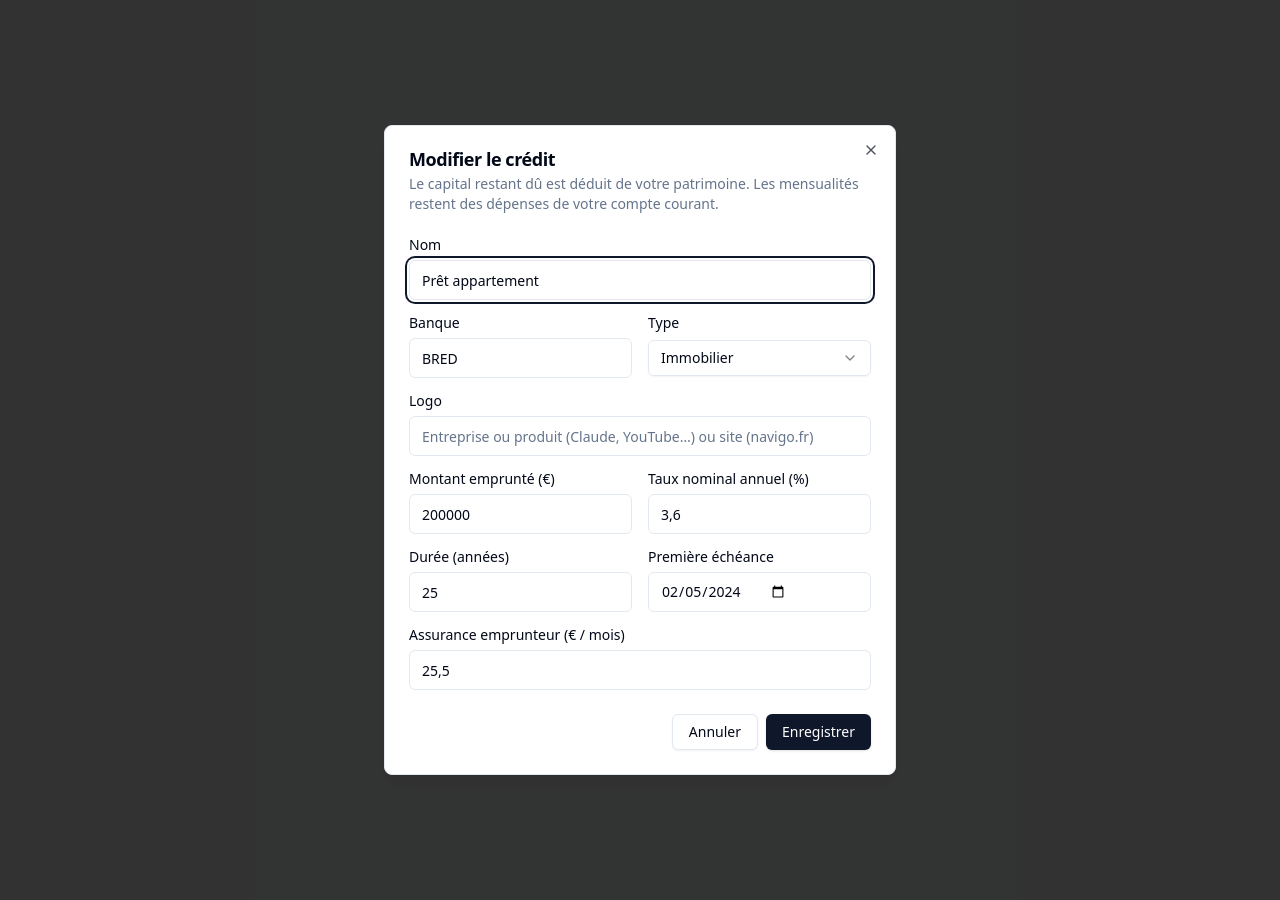
Test: LoanDialog › affiche le détail de l'erreur serveur sans fermer
The image size is (1280, 900).
Click the button "Enregistrer" at (818, 732), box [766,714,871,750]
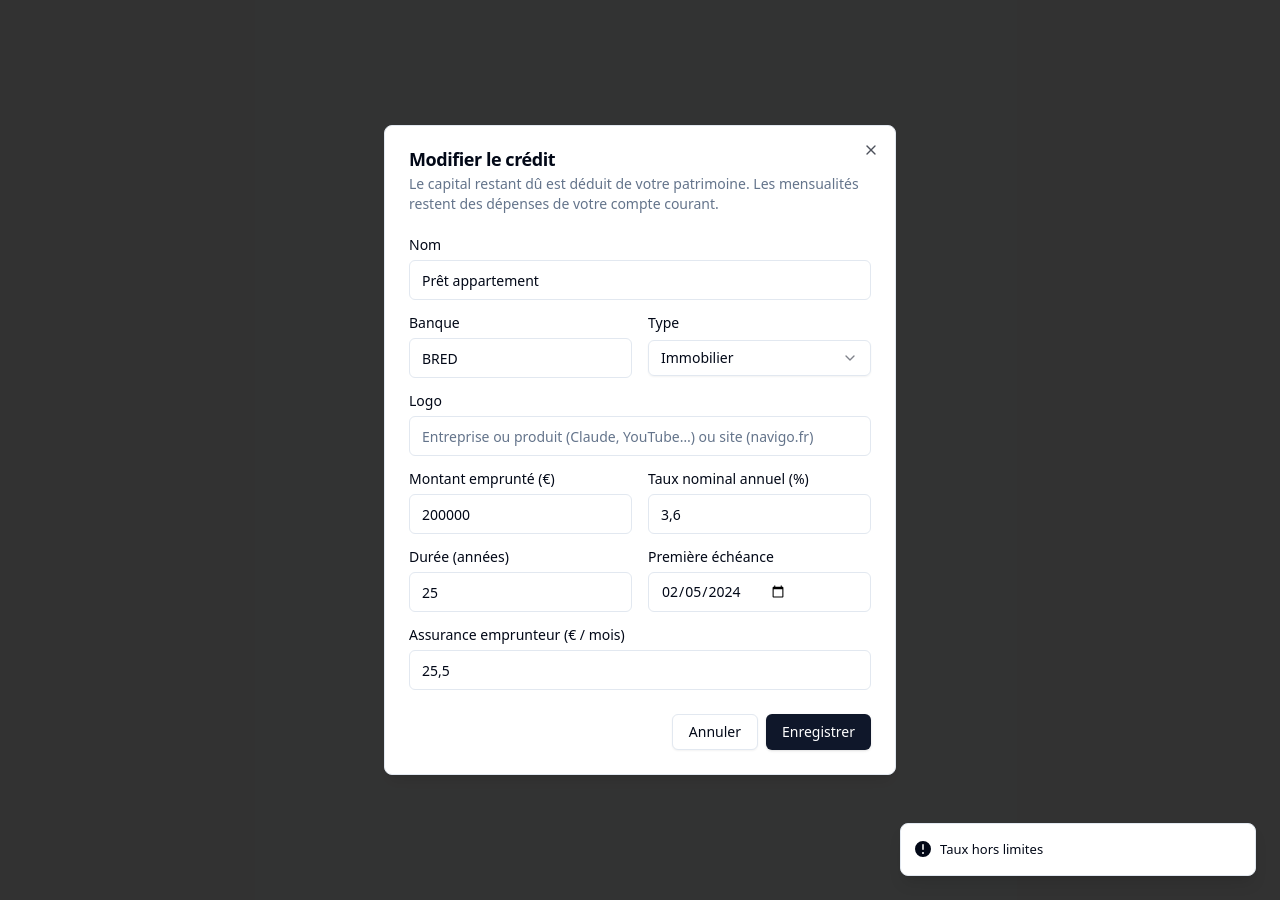
expect the text "Taux hors limites" is shown: met, box [940,840,1043,859]
